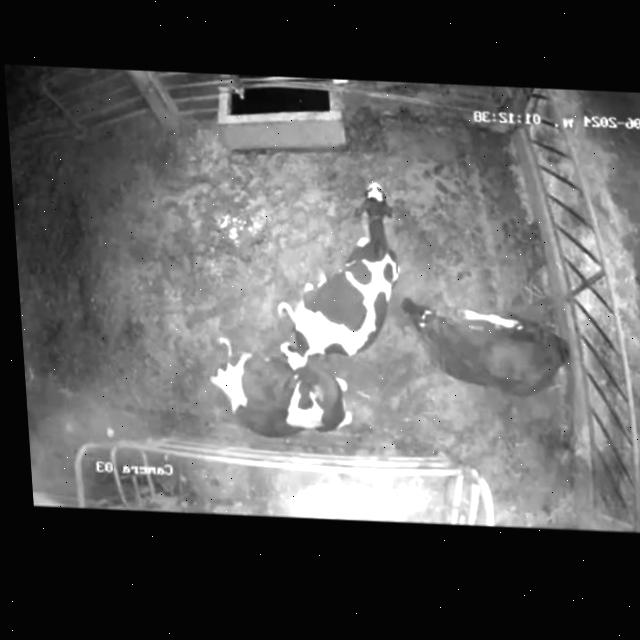lay: (255, 165, 423, 366), (397, 287, 582, 416), (192, 334, 372, 443)
